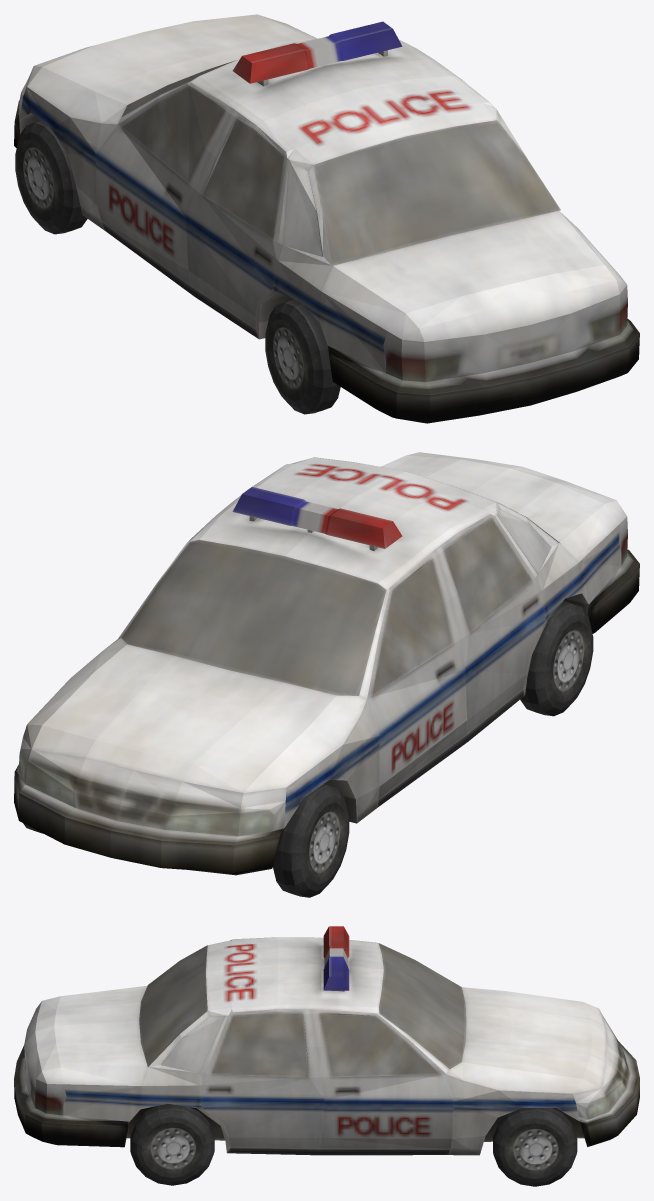
Rendered from squadcar.DAE.
The picture shows the model from 3 angles, top to bottom: view 1: azimuth 30°, elevation 25°; view 2: azimuth 150°, elevation 25°; view 3: azimuth 270°, elevation 25°; orthographic projection. The views are drawn at different scales.
Visible parts, largest first — view 1: hull, a_winb, a_winl, wheels_spin001, wheels_spin_steer001, lights, a_winf; view 2: hull, a_winf, a_winl, wheels_spin_steer001, wheels_spin001, lights; view 3: hull, a_winr, a_winf, wheels_spin002, wheels_spin_steer002, a_winb, lights.
Part boxes in pixels (box(x1,y1,x2,y2)): hull: box(14, 14, 639, 423); a_winb: box(313, 120, 560, 265); a_winl: box(121, 86, 283, 240); wheels_spin001: box(265, 299, 340, 414); wheels_spin_steer001: box(15, 120, 87, 234); lights: box(232, 21, 402, 83); a_winf: box(121, 60, 235, 117); hull: box(14, 452, 639, 875); a_winf: box(121, 540, 386, 695); a_winl: box(371, 518, 532, 696); wheels_spin_steer001: box(273, 784, 349, 897); wheels_spin001: box(520, 601, 593, 716); lights: box(232, 487, 402, 548); hull: box(14, 937, 639, 1155); a_winr: box(211, 1012, 440, 1077); a_winf: box(379, 943, 466, 1068); wheels_spin002: box(130, 1104, 214, 1185); wheels_spin_steer002: box(493, 1108, 577, 1186); a_winb: box(139, 945, 207, 1066); lights: box(323, 926, 349, 990).
Bounding box in the file's own units: 2.1 × 1.77 × 5.38.
3 materials, 3 textured.
